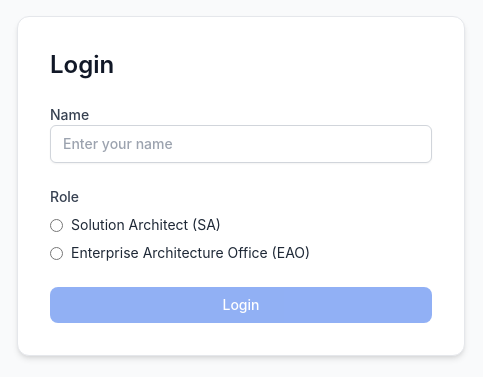
Login Component › shows loading state during login
The width and height of the screenshot is (483, 377).
Type "John Doe" into the field labelled "Name".
click(241, 144); type("John Doe")  # box [50,125,432,163]
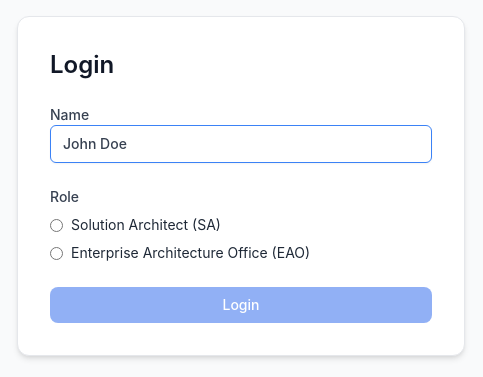
Click the radio button labelled "Solution Architect (SA)".
click(56, 225)  # box [50,218,63,232]
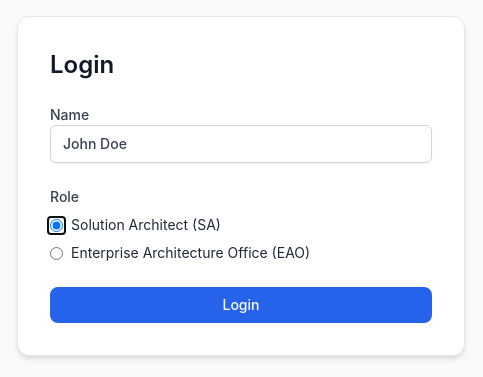
Click the button "Login".
click(241, 305)  # box [50,287,432,323]
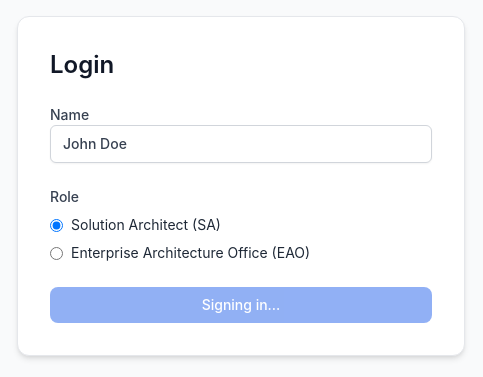
Expected: the button "Signing in..." is disabled, [50,287,432,323]
